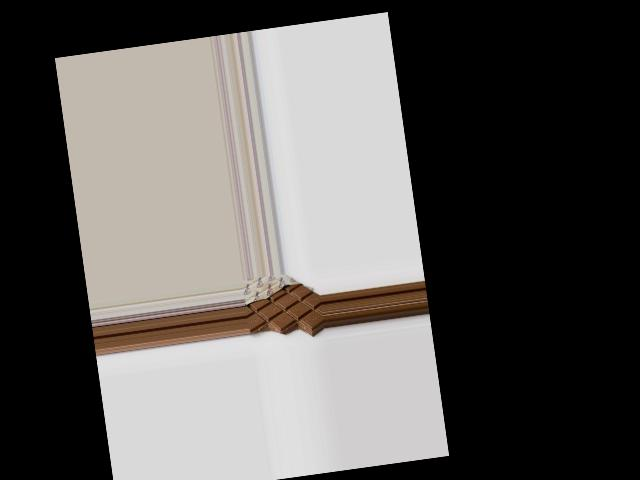chocolate: (241, 270, 323, 339)
